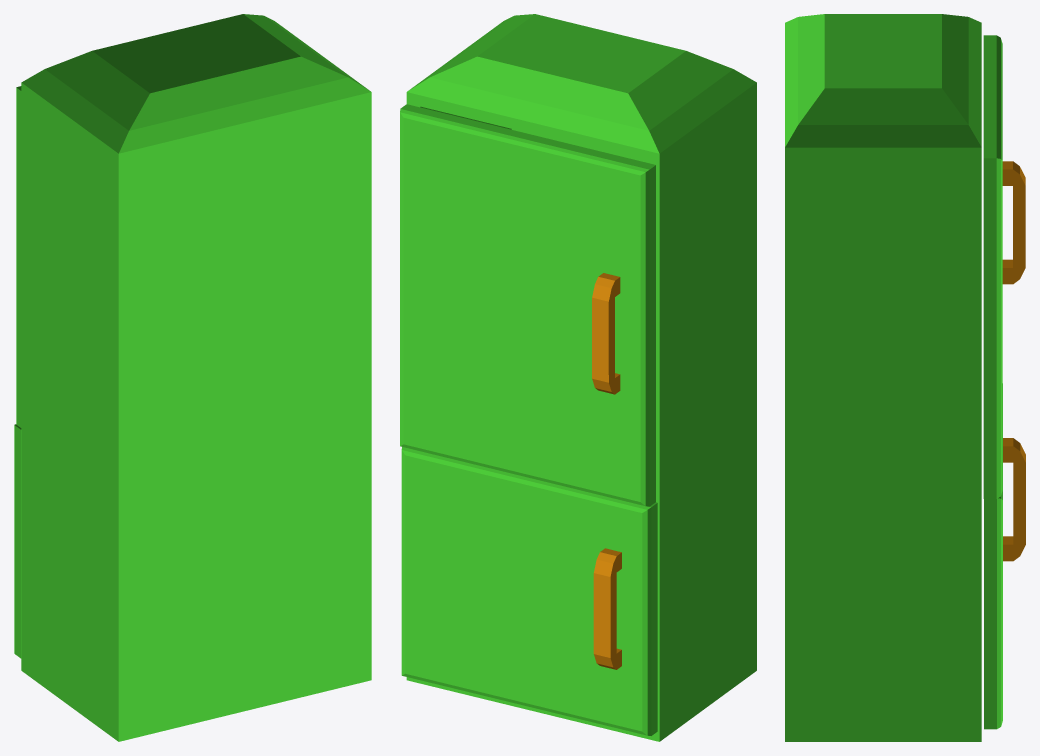
File: Refrigerator 4.fbx
3 renders of one model, left to right at view 1: azimuth 30°, elevation 25°; view 2: azimuth 150°, elevation 25°; view 3: azimuth 270°, elevation 25°, orthographic.
Visible parts, largest first — view 1: Node 0, Node 2, Node 1; view 2: Node 0, Node 2, Node 1; view 3: Node 0, Node 2, Node 1.
Part boxes in pixels (bbox=[...]): Node 0: bbox=[21, 14, 371, 741]; Node 2: bbox=[16, 86, 21, 427]; Node 1: bbox=[14, 424, 21, 658]; Node 0: bbox=[406, 14, 756, 741]; Node 2: bbox=[400, 104, 655, 506]; Node 1: bbox=[401, 447, 657, 735]; Node 0: bbox=[785, 14, 981, 741]; Node 2: bbox=[983, 35, 1025, 498]; Node 1: bbox=[984, 383, 1025, 729].
Bounding box in the file's own units: 0.8963 × 2.58 × 1.1.
